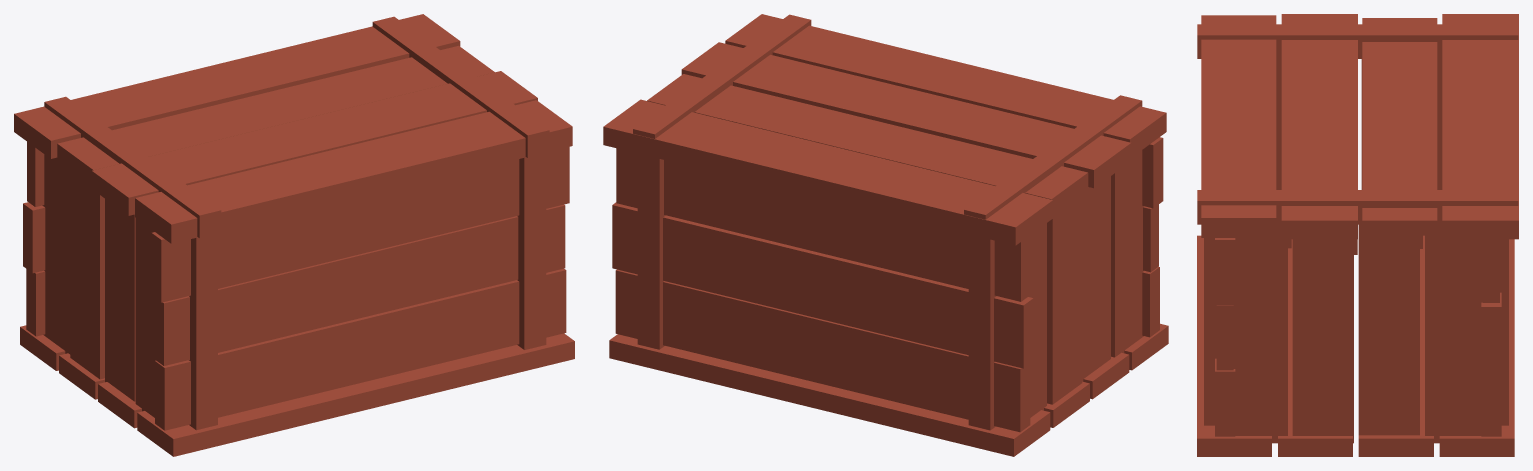
File: SM_box_wooden.fbx
The picture shows the model from 3 angles, left to right: view 1: azimuth 30°, elevation 25°; view 2: azimuth 150°, elevation 25°; view 3: azimuth 270°, elevation 25°; orthographic projection. The views are drawn at different scales.
Parts seen in each view (by area): view 1: Box357; view 2: Box357; view 3: Box357.
Boxes of the visible parts, box(x1,y1,x2,y2) form: Box357: box(14, 14, 574, 456); Box357: box(603, 14, 1168, 456); Box357: box(1197, 14, 1518, 456).
Size of the model in its own units: 48.08 by 26.38 by 31.65.
